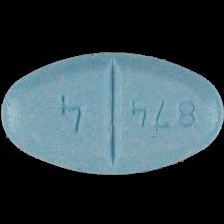63629-4748: (0, 0, 224, 224)
